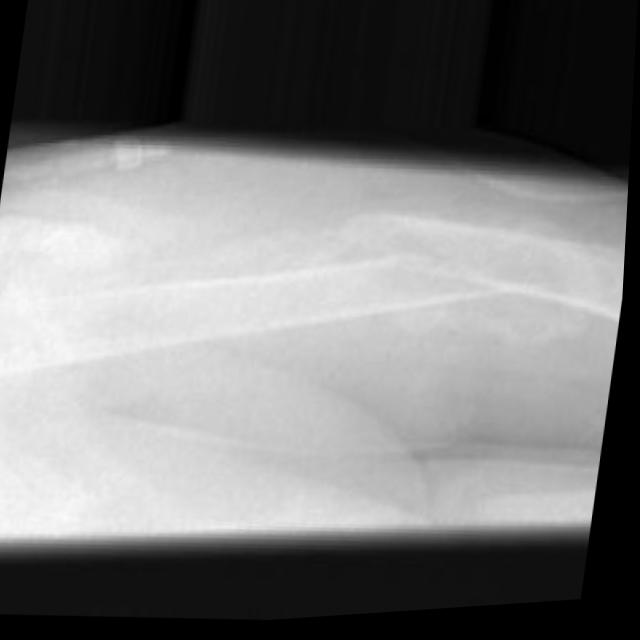fracture: (327, 188, 503, 342)
